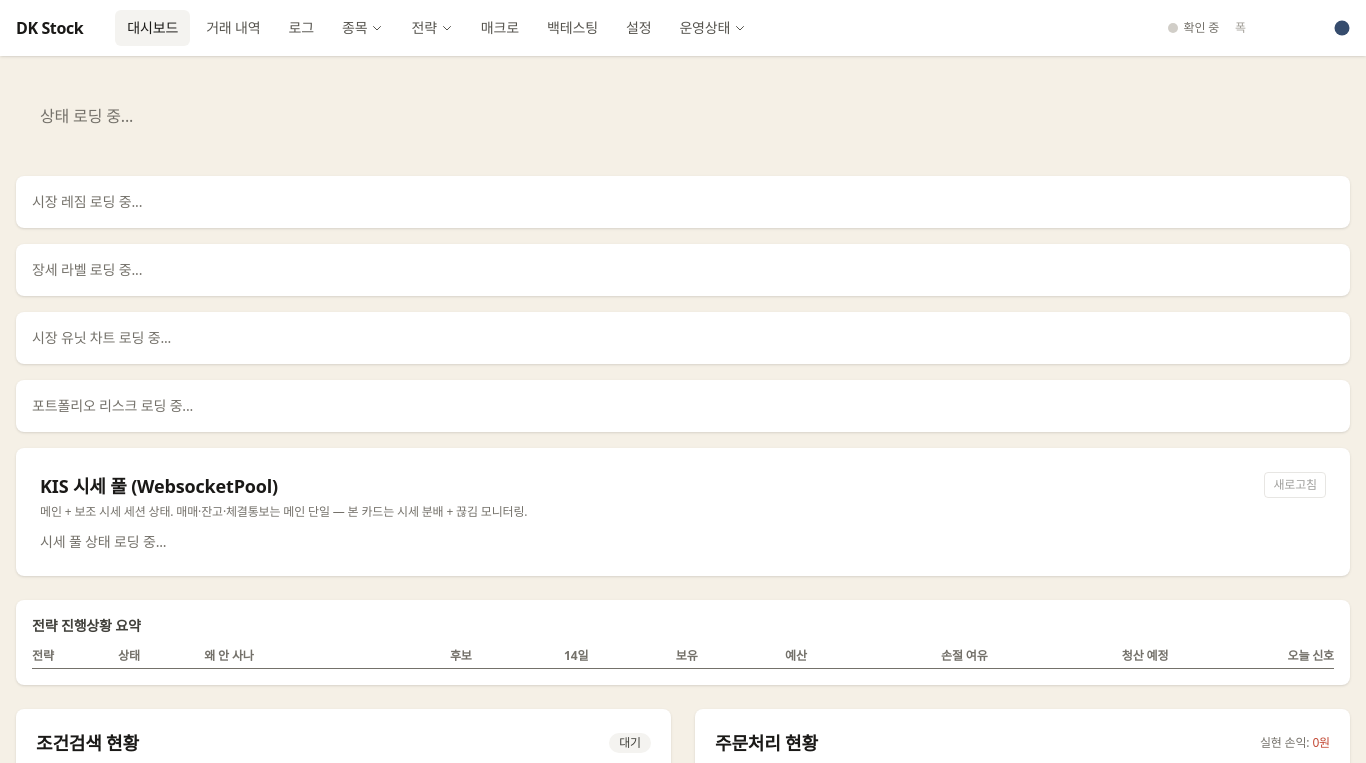
Test: AppShell — 상단 메뉴바 sticky › 라우트가 바뀌면 열려 있던 그룹이 닫힌다
Step 1. Click the button "종목" → (363, 28), box [330,10,396,46]
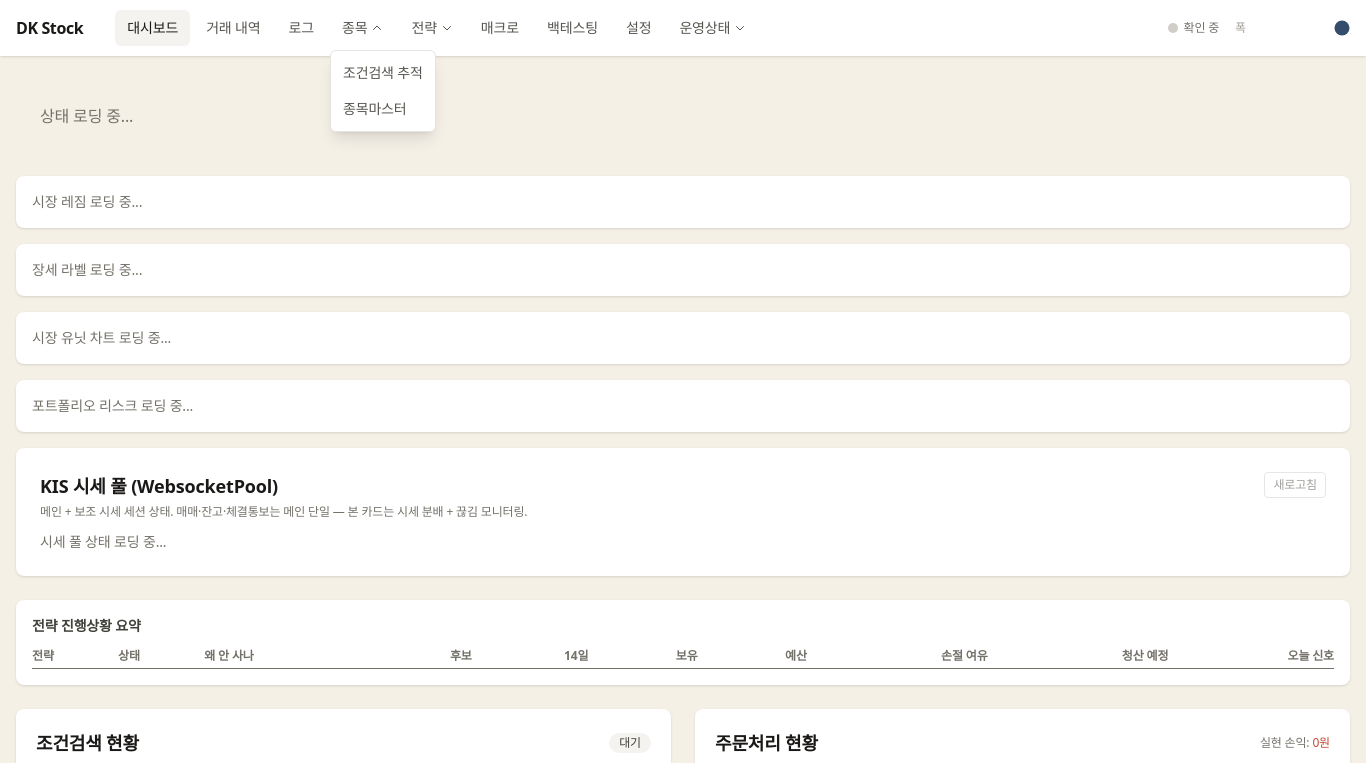
Step 2. Click the link "종목마스터" → (375, 108), box [343,99,407,118]
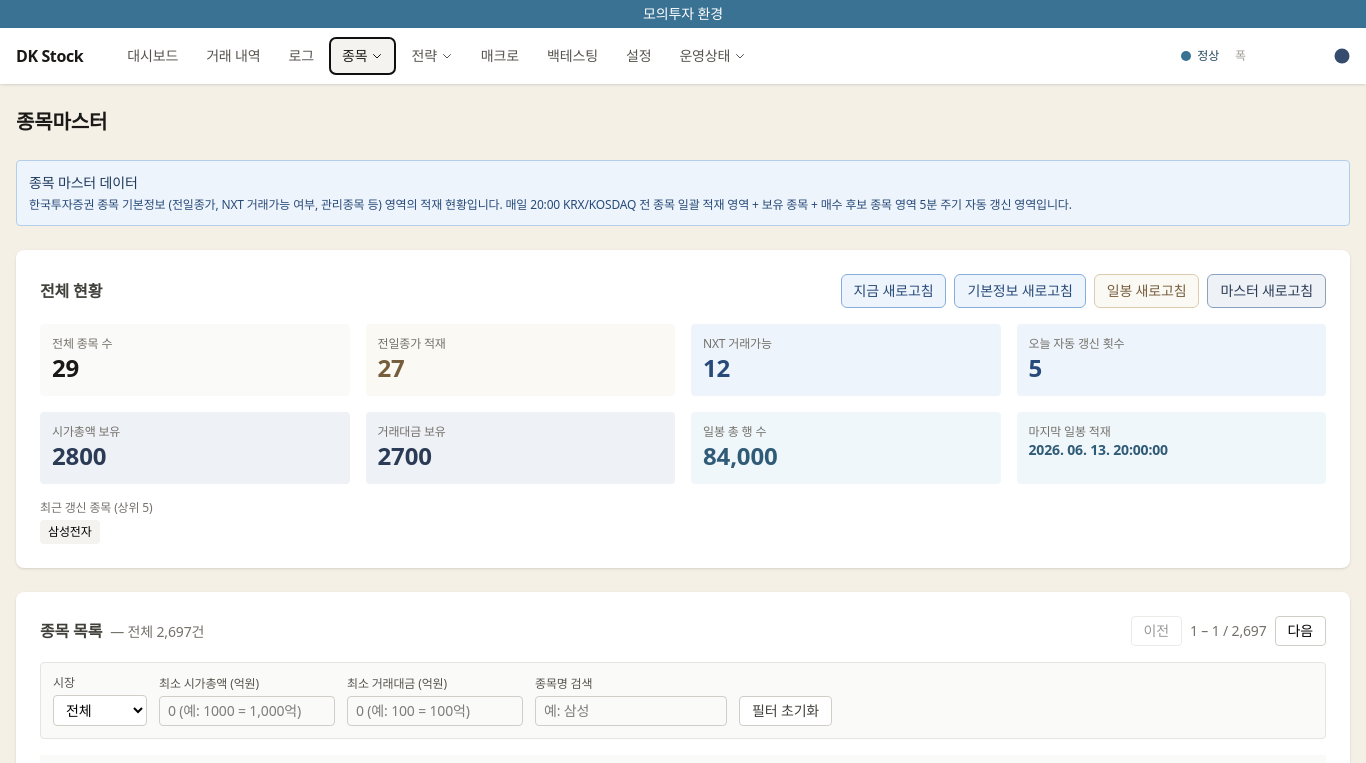
Check: the button "종목" is collapsed, box [330,38,396,74]
